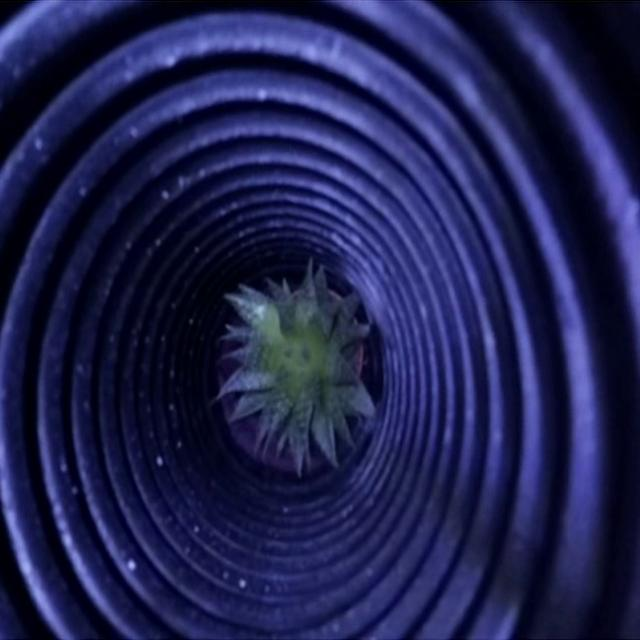leaf: (220, 279, 369, 449)
